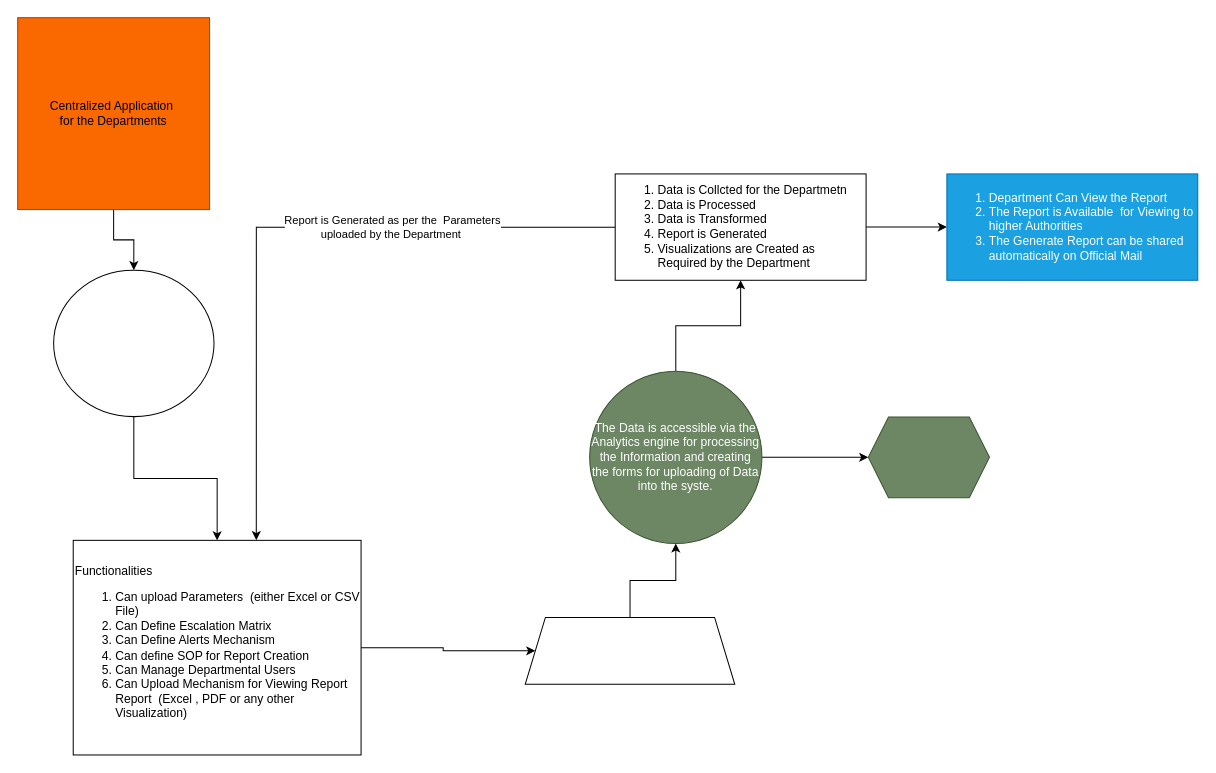
Some shapes in this 1216 by 773 pixel diagram are drawn without their labels. The centre of each missing label's shape, as x and y in pixels:
Analytica Engine: point 928,457
Department Uploads Data to the Centralized Application: point 629,650
Role based Authentication and Authorization (Department Users): point 133,343
